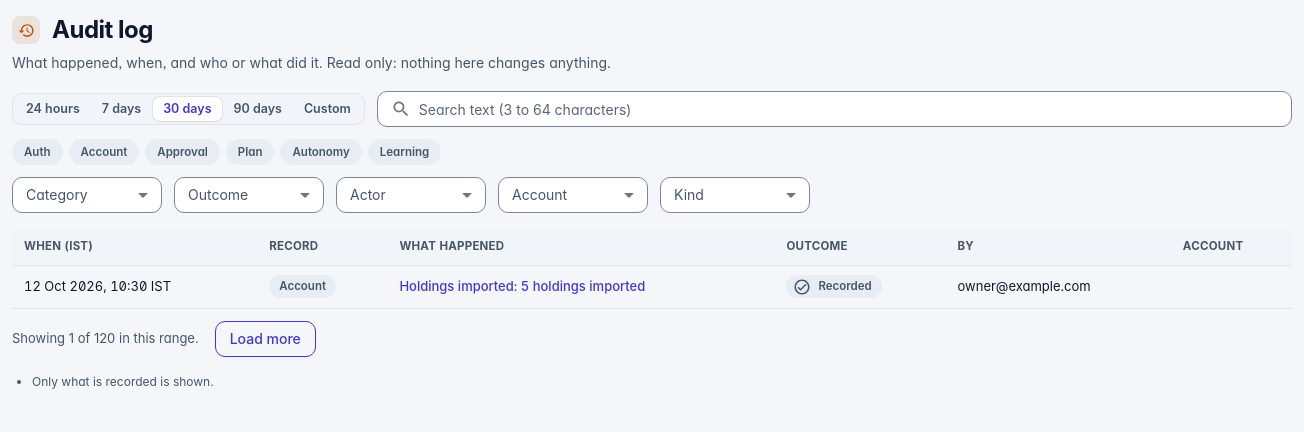
the Audit log screen › loads more with the cursor
Click the button "Load more": (265, 339) [215, 321, 316, 357]
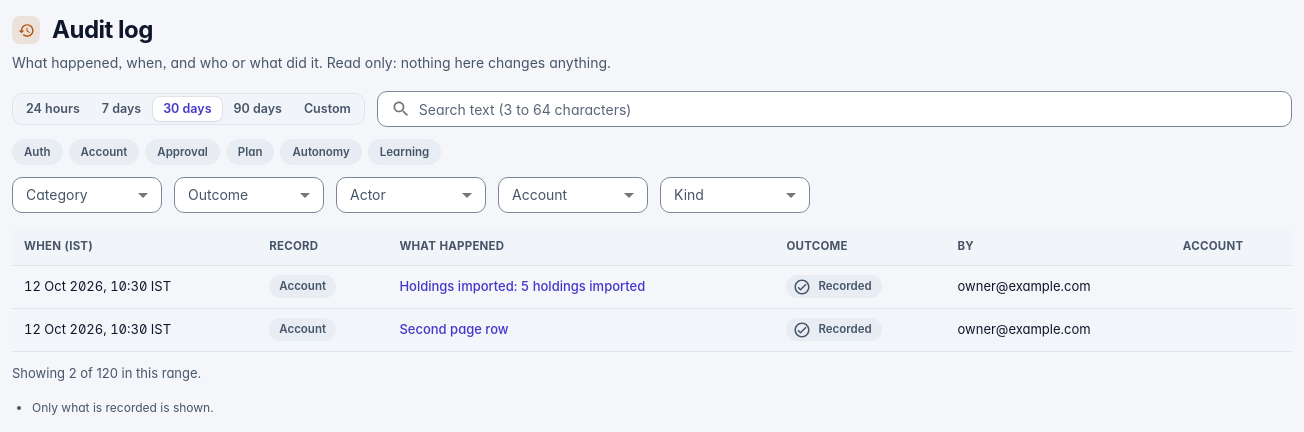
Now the button "Second page row" is shown, box [399, 318, 509, 342]
Now the button "Load more" is gone
